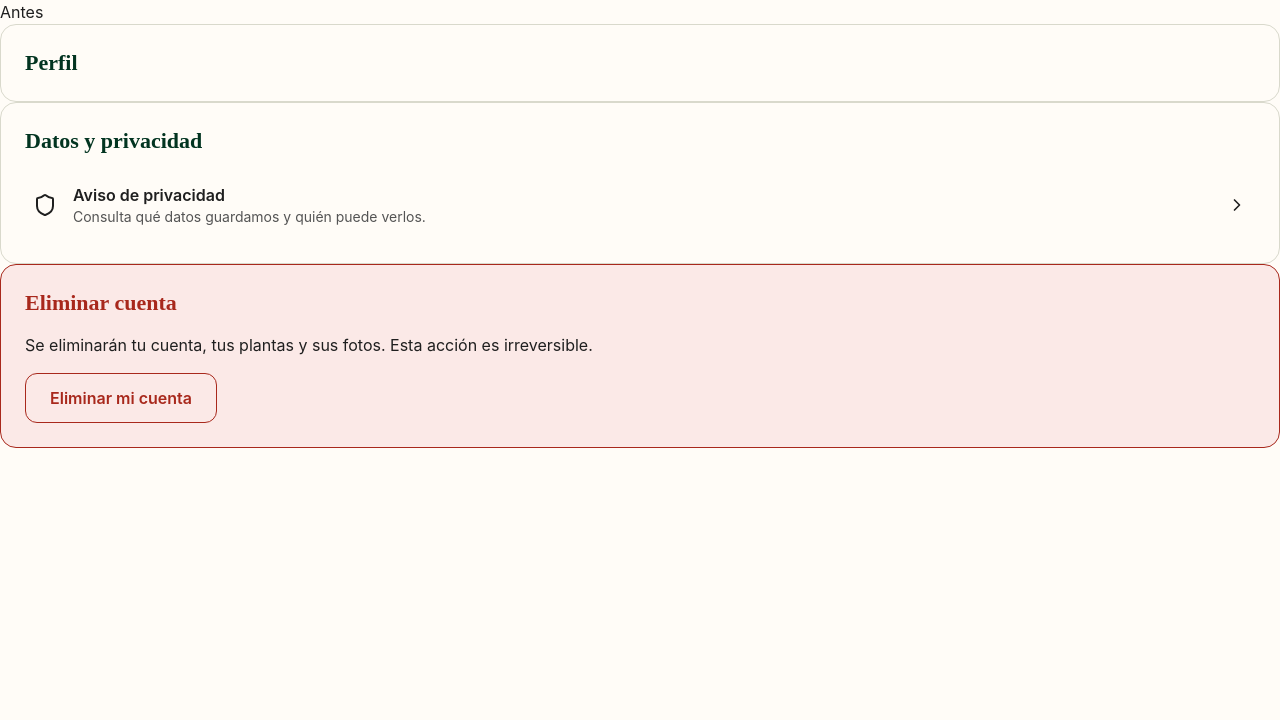
AccountView › si la persona cierra la reverificación de Clerk, lo dice y se puede reintentar
The width and height of the screenshot is (1280, 720).
Later steps or results of the test are not shown.
Click the button "Eliminar mi cuenta": (121, 398) left=25, top=373, right=217, bottom=423
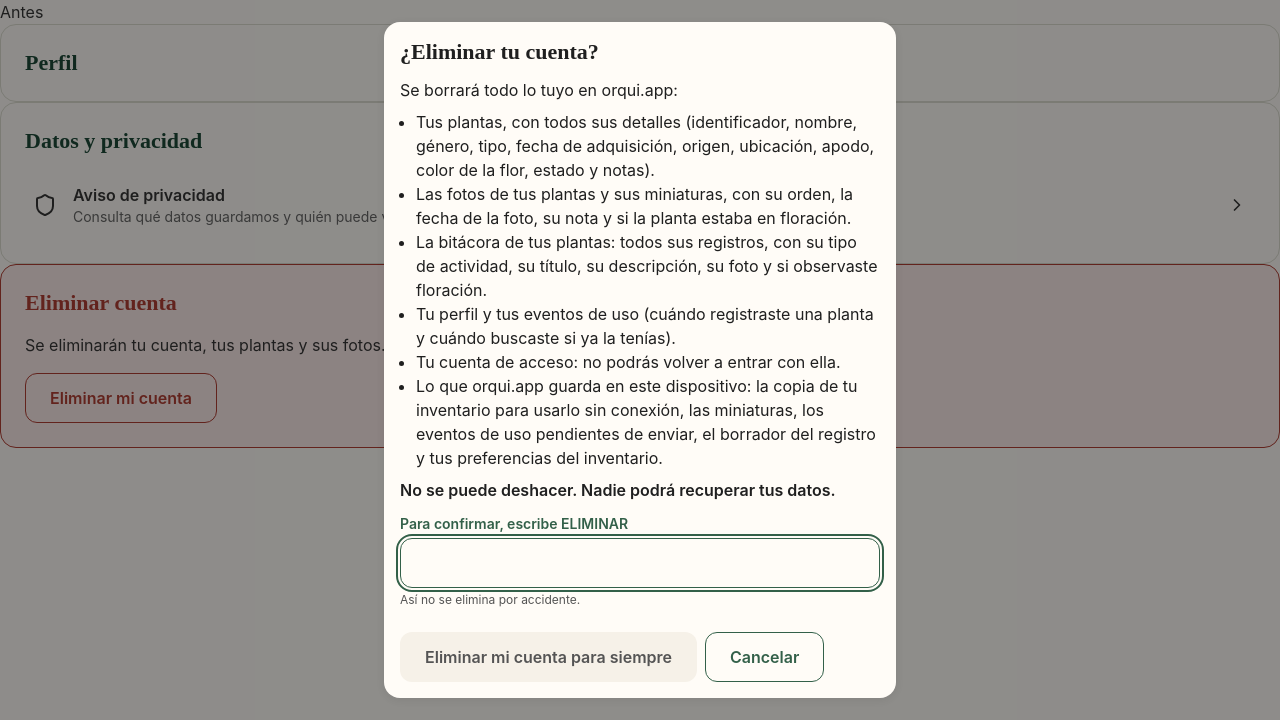
In the field labelled "Para confirmar, escribe ELIMINAR": (640, 563) left=400, top=538, right=880, bottom=588, type "ELIMINAR"
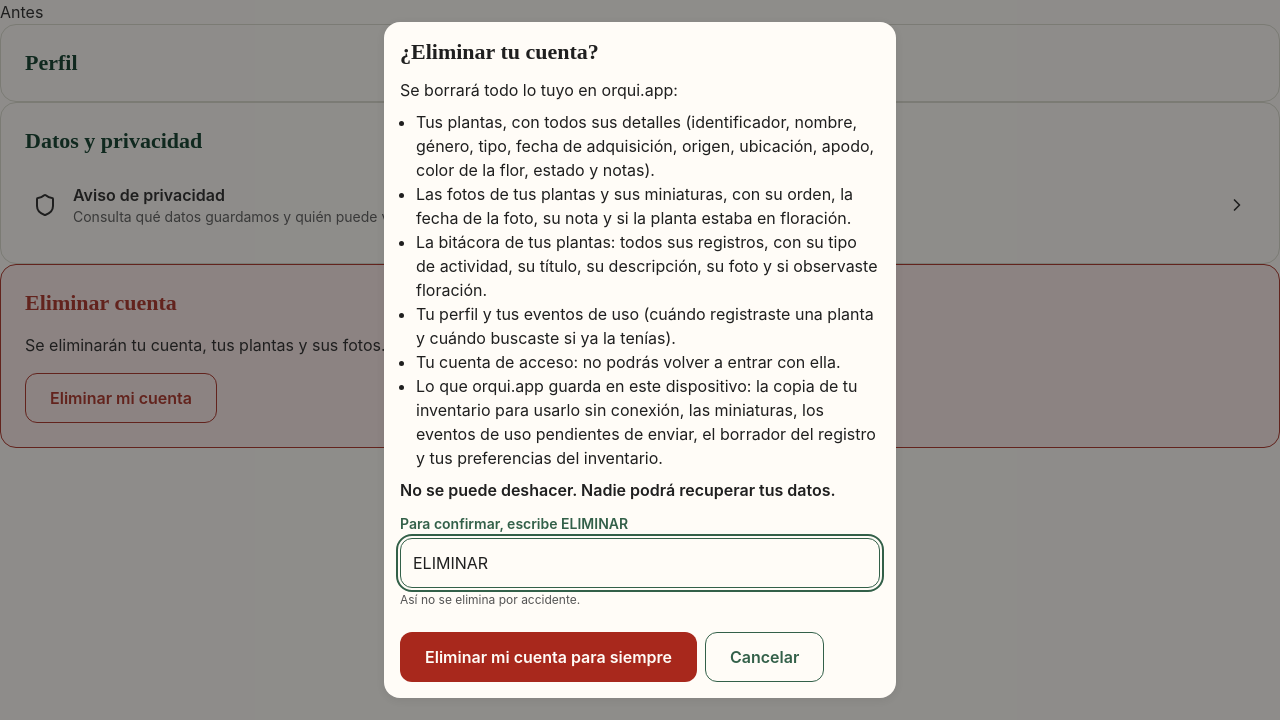
Click the button "Eliminar mi cuenta para siempre": (548, 657) left=400, top=632, right=697, bottom=682
(page scrolled)
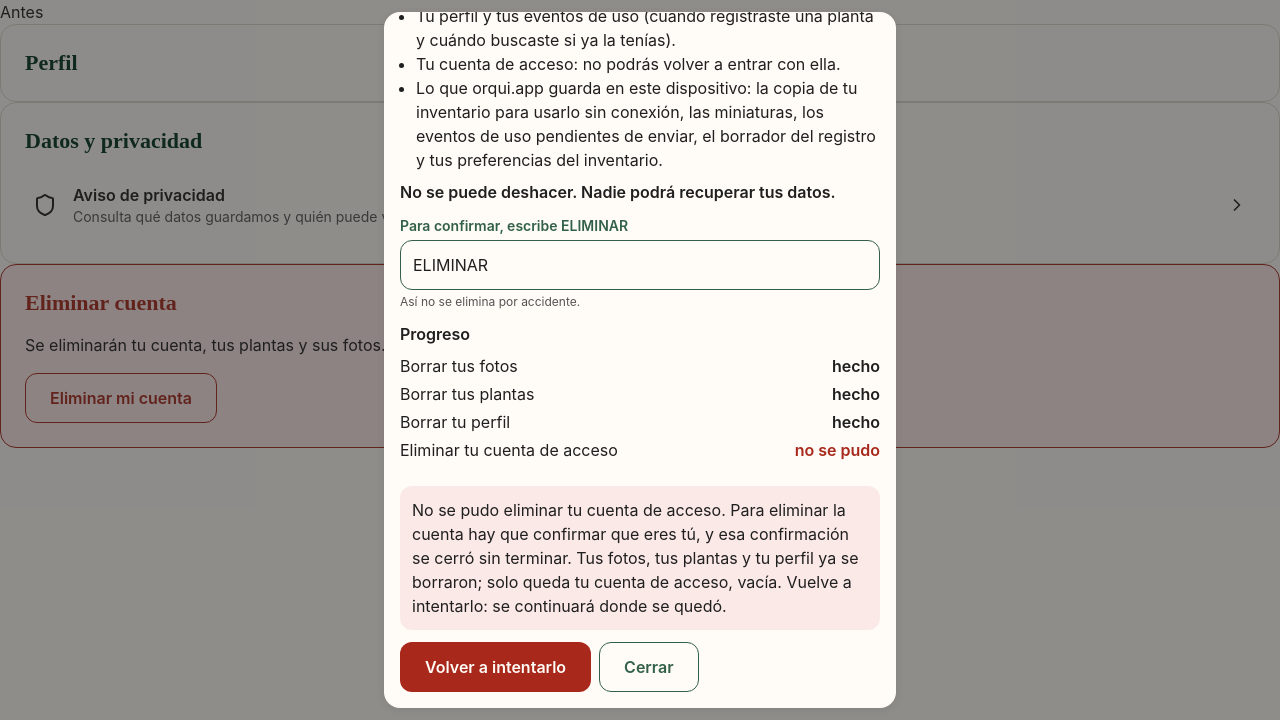
Result: the message shows "confirmar que eres tú" at left=412, top=500, right=858, bottom=616
